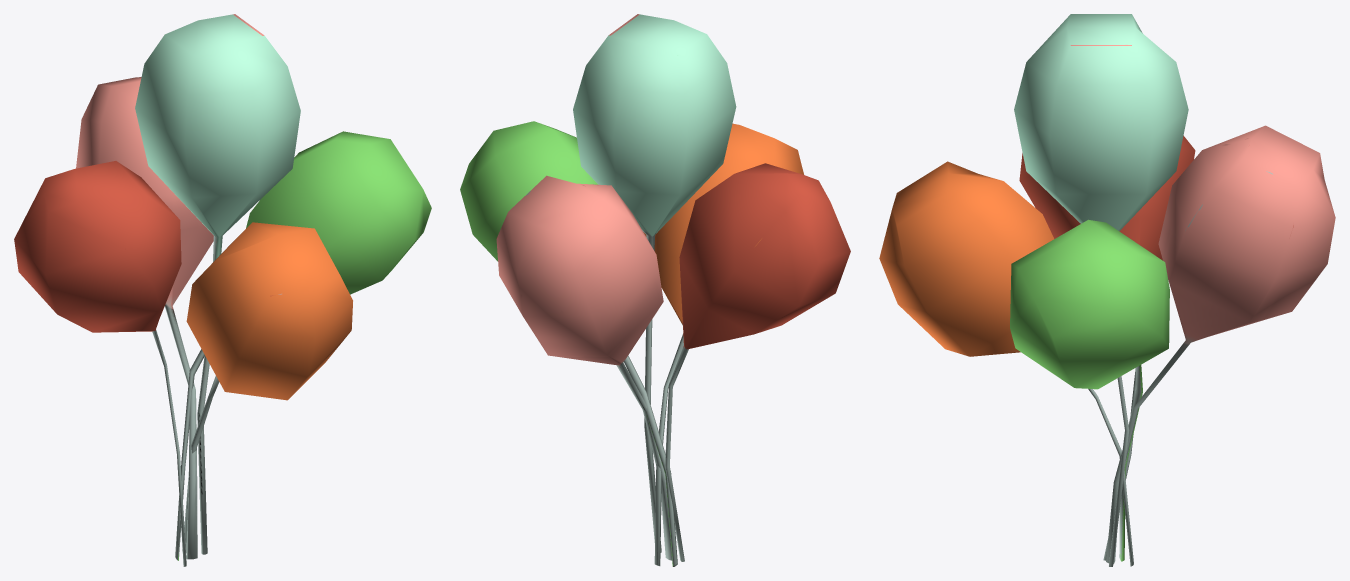
Rendered from Baloons.fbx.
The picture shows the model from 3 angles, left to right: view 1: azimuth 30°, elevation 25°; view 2: azimuth 150°, elevation 25°; view 3: azimuth 270°, elevation 25°; orthographic projection. The views are drawn at different scales.
Parts seen in each view (by area): view 1: Cube, Cube.004, Cube.002, Cube.003, Cube.001; view 2: Cube, Cube.004, Cube.001, Cube.003, Cube.002; view 3: Cube.001, Cube, Cube.002, Cube.003, Cube.004.
Part boxes in pixels (x1=…): Cube: x1=135, y1=14, x2=300, y2=554; Cube.004: x1=14, y1=161, x2=186, y2=566; Cube.002: x1=182, y1=222, x2=352, y2=553; Cube.003: x1=175, y1=131, x2=431, y2=560; Cube.001: x1=76, y1=77, x2=213, y2=559; Cube: x1=573, y1=14, x2=736, y2=552; Cube.004: x1=665, y1=163, x2=850, y2=561; Cube.001: x1=496, y1=175, x2=672, y2=560; Cube.003: x1=460, y1=121, x2=677, y2=566; Cube.002: x1=643, y1=123, x2=803, y2=566; Cube.001: x1=1106, y1=125, x2=1335, y2=563; Cube: x1=1014, y1=14, x2=1188, y2=566; Cube.002: x1=879, y1=161, x2=1133, y2=566; Cube.003: x1=1010, y1=219, x2=1169, y2=561; Cube.004: x1=1019, y1=135, x2=1195, y2=560.
Size of the model in its own units: 483 by 649 by 490.
Materials: 1 (1 with a texture image).
